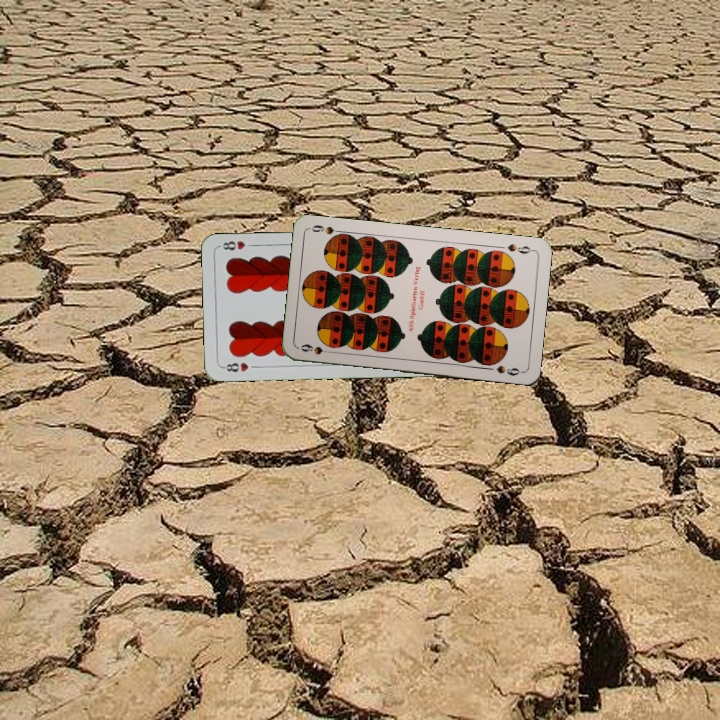H8: (219, 358, 251, 374)
S9: (297, 340, 337, 357), (503, 240, 536, 256)
